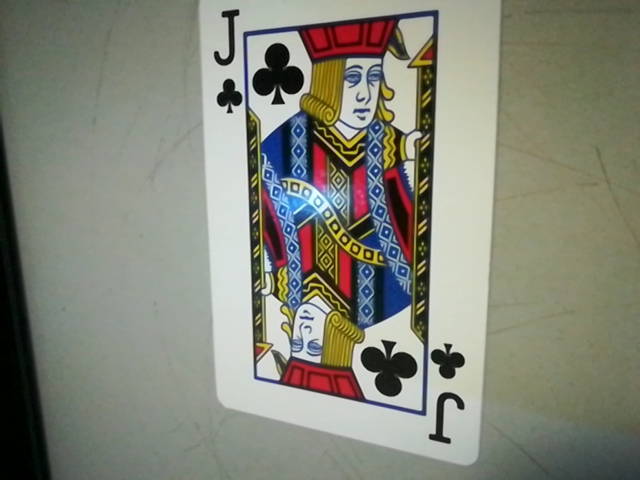mh j: (421, 337, 479, 454)
